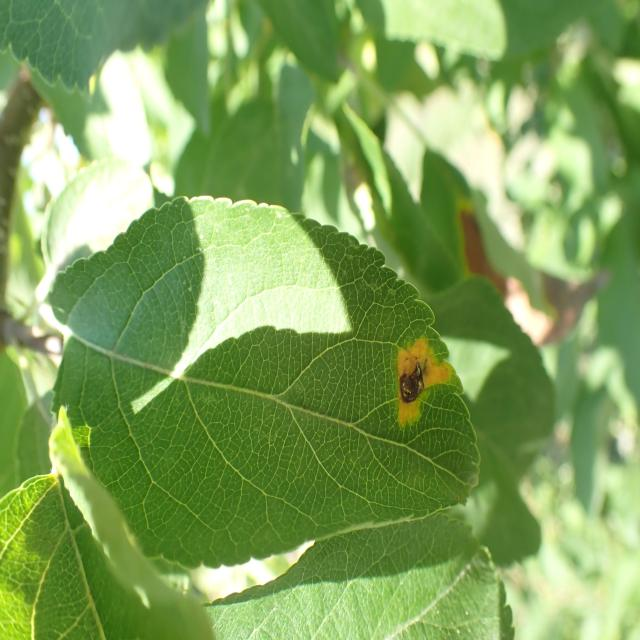Rust: (371, 319, 481, 438)
